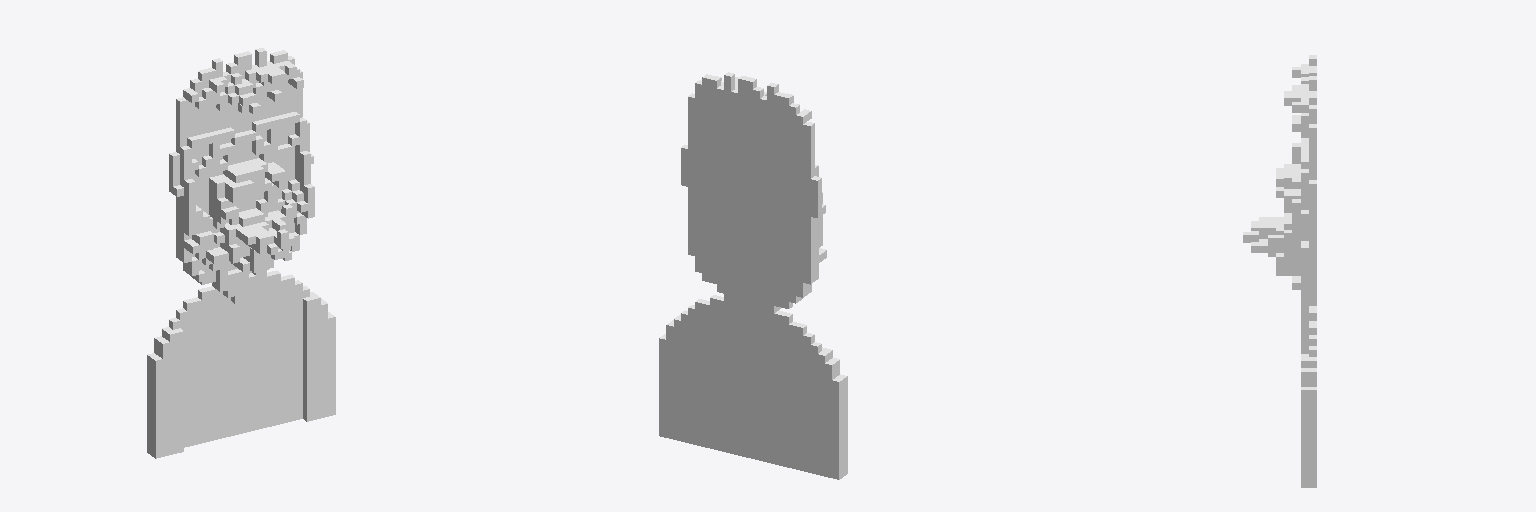
The model's file is selfportrait2.obj.
The picture shows the model from 3 angles: view 1: azimuth 30°, elevation 25°; view 2: azimuth 150°, elevation 25°; view 3: azimuth 270°, elevation 25°; orthographic projection.
Visible parts, largest first — view 1: object 1; view 2: object 1; view 3: object 1.
Boxes of the visible parts, <box> form: object 1: <box>147,48,335,458</box>; object 1: <box>659,72,847,479</box>; object 1: <box>1243,55,1316,487</box>.
Size of the model in its own units: 2.5 by 5 by 0.9.